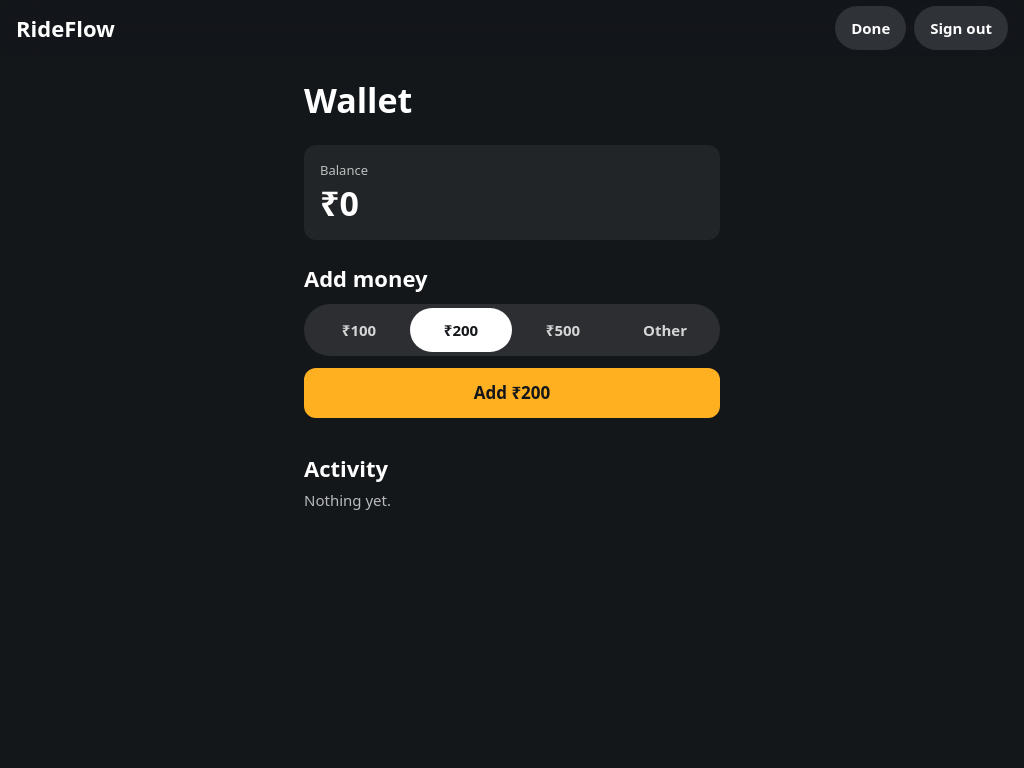
adding money › tries again under the same key when an answer was lost, so it is paid once
Click the button "Add ₹200" at coordinates (512, 393), box [304,368,720,418]
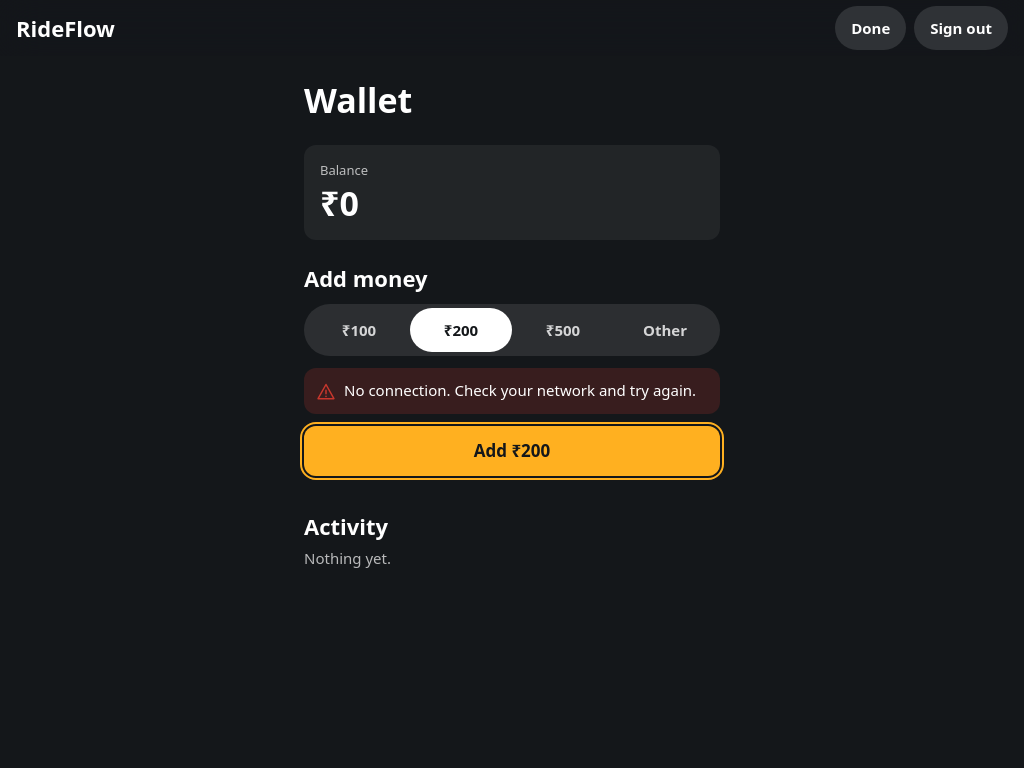
Check: the message "No connection. Check your network and try again." is shown, box [304,368,720,414]
Click the button "Add ₹200" at coordinates (512, 451), box [304,426,720,476]
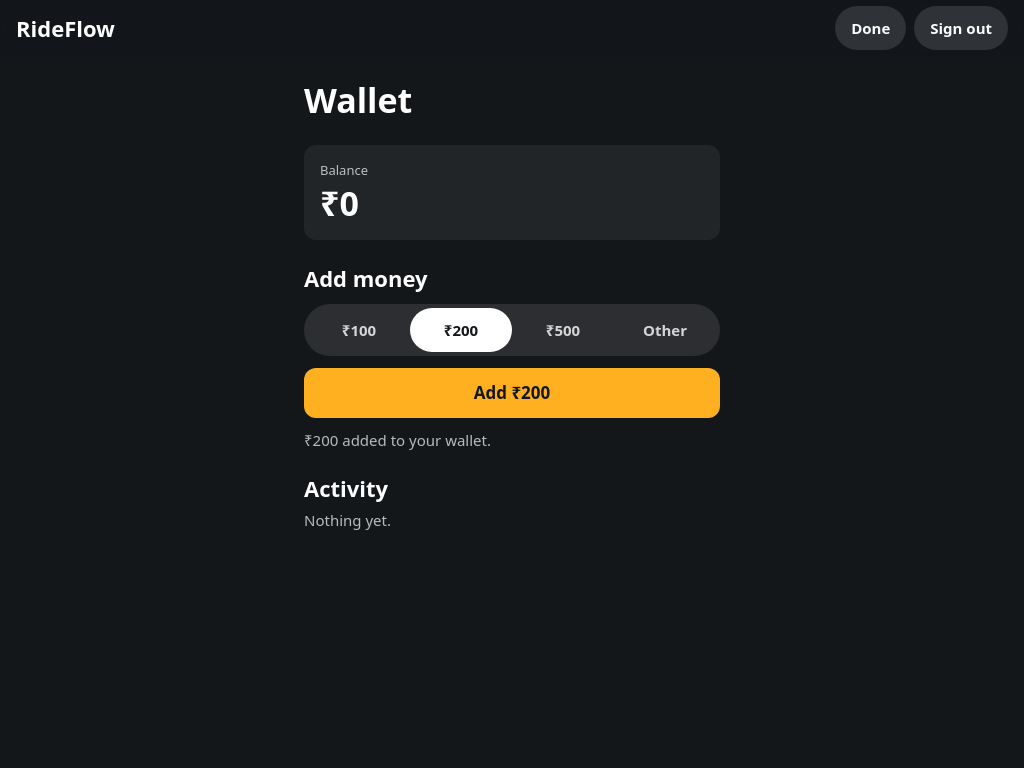
Check: the text "₹200 added to your wallet." is shown, box [304,430,491,450]
